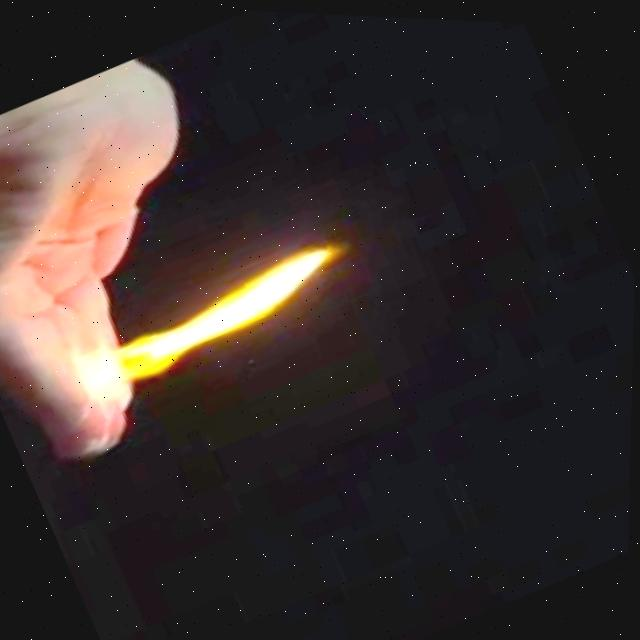Fire: (52, 207, 375, 424)
